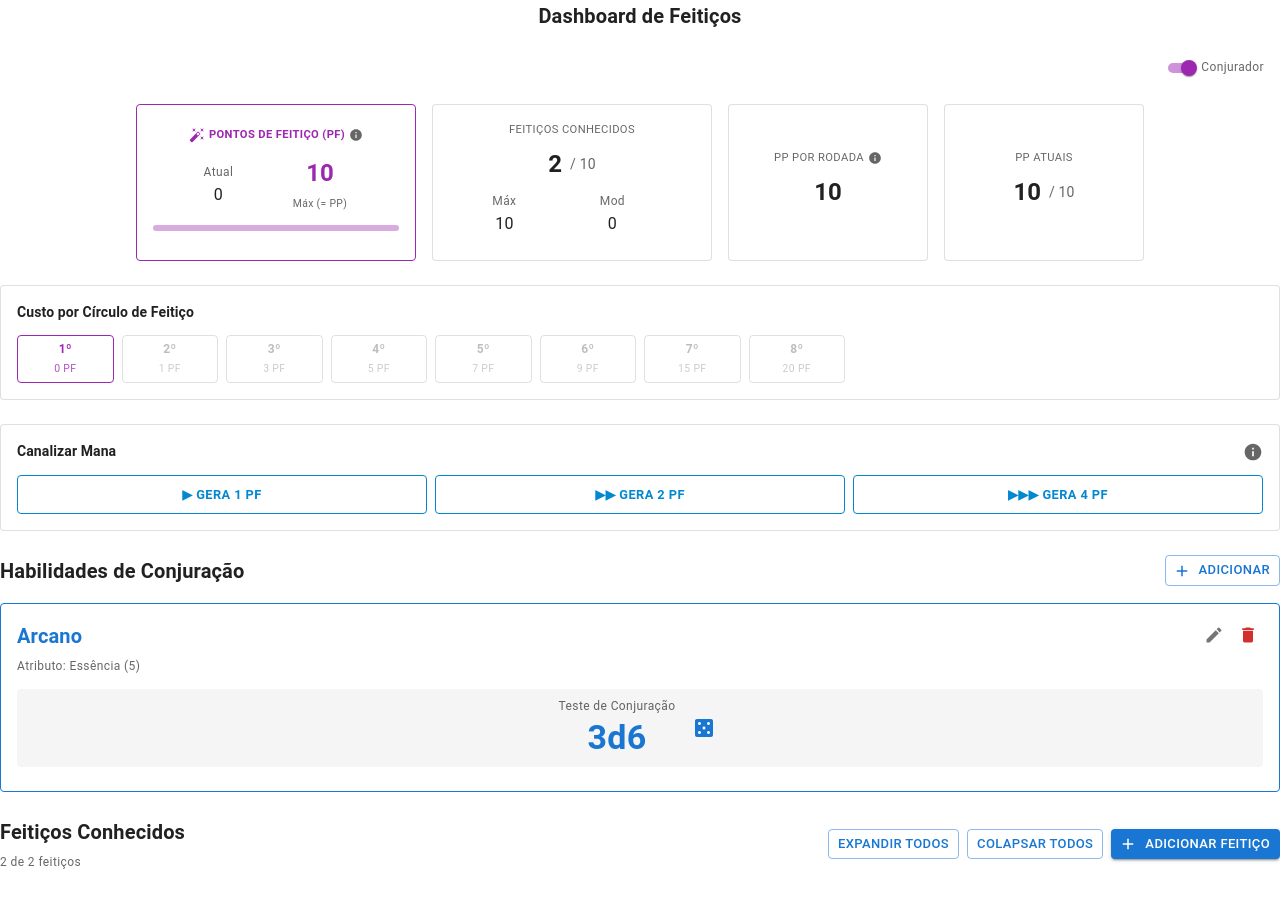
Scenario: SpellsTab › should close dialog when clicking cancel
This screenshot has width=1280, height=897.
Click the button "Adicionar Feitiço": (1196, 844) [1111, 829, 1279, 860]
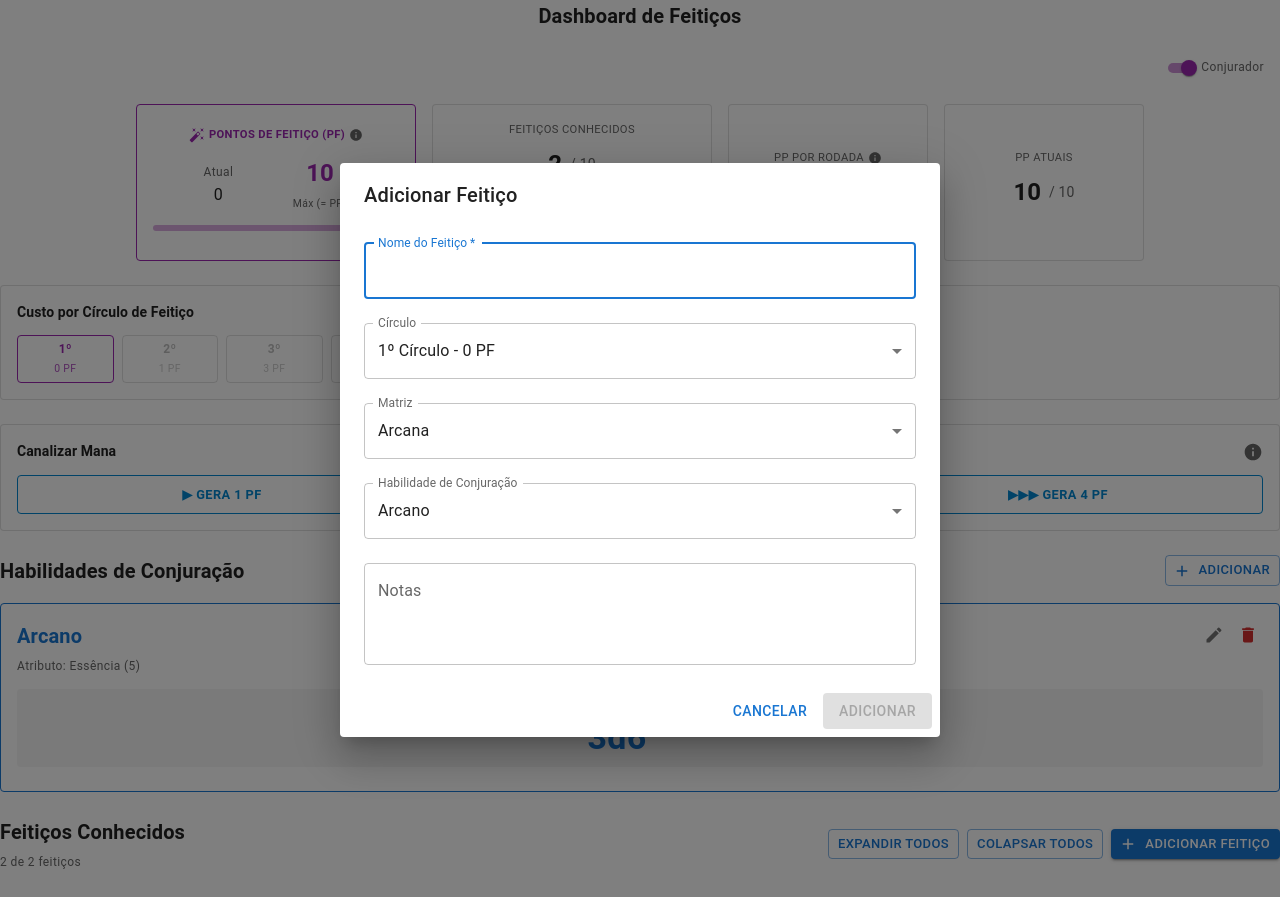
Expected: the dialog is shown, [340, 163, 940, 737]
Click the button "Cancelar": (770, 711) [725, 693, 815, 729]
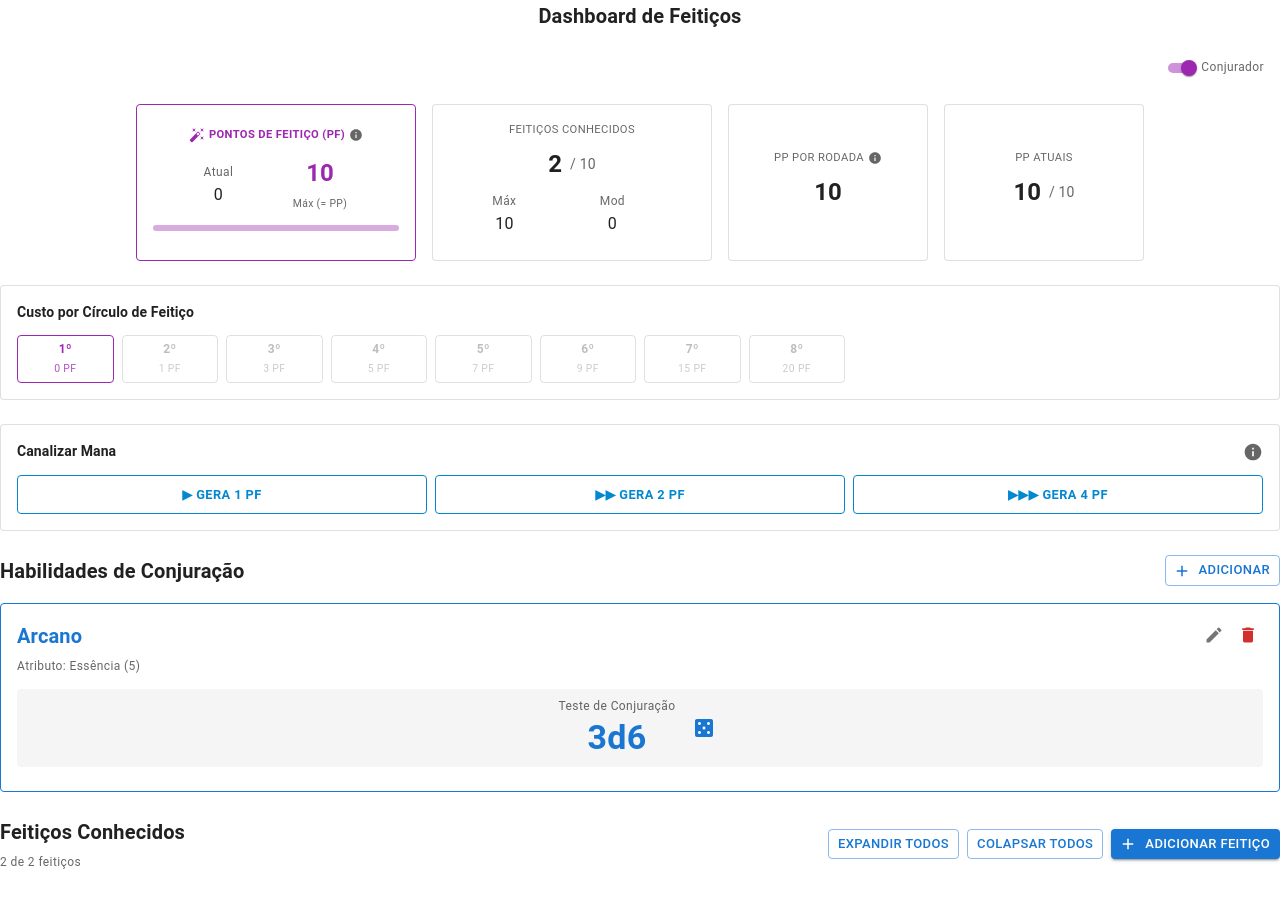
Expected: the dialog is gone
